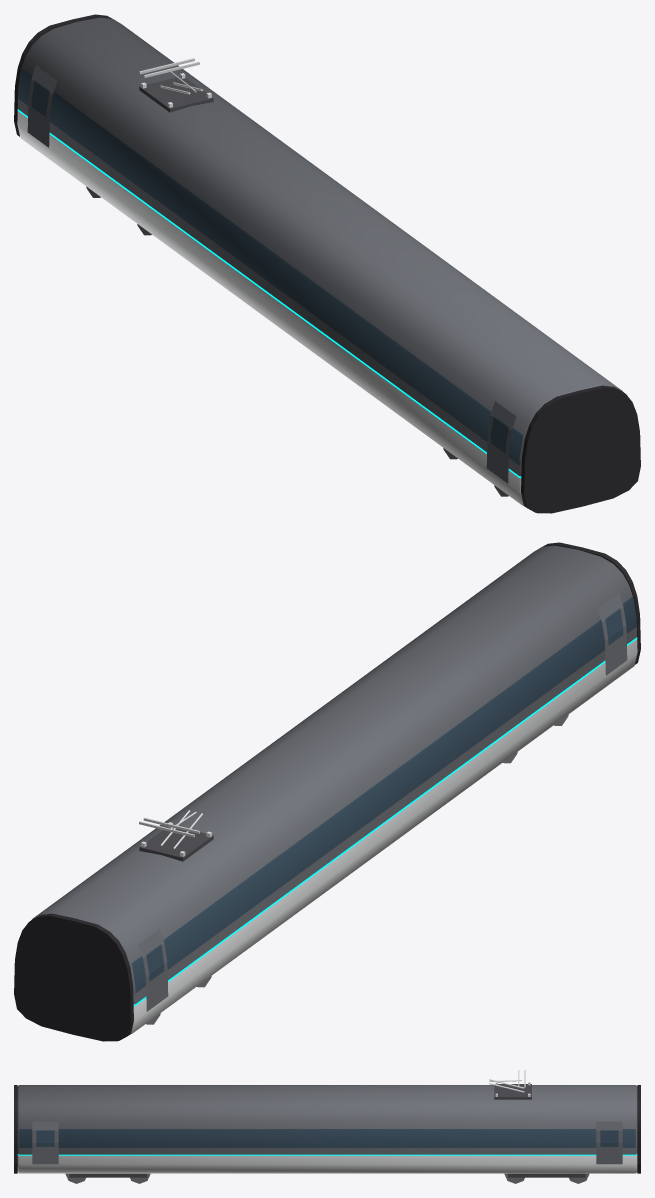
Rendered from middle_1.fbx.
The picture shows the model from 3 angles, top to bottom: view 1: azimuth 30°, elevation 25°; view 2: azimuth 150°, elevation 25°; view 3: azimuth 270°, elevation 25°; orthographic projection. The views are drawn at different scales.
Parts seen in each view (by area): view 1: 23_middle_1; view 2: 23_middle_1; view 3: 23_middle_1.
Part boxes in pixels (left/top/right/bottom): 23_middle_1: left=14, top=14, right=640, bottom=513; 23_middle_1: left=14, top=542, right=640, bottom=1041; 23_middle_1: left=14, top=1070, right=640, bottom=1183.
Size of the model in its own units: 3.37 by 4.25 by 25.
